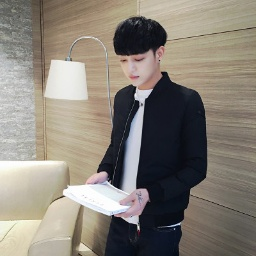face: (111, 14, 171, 89)
